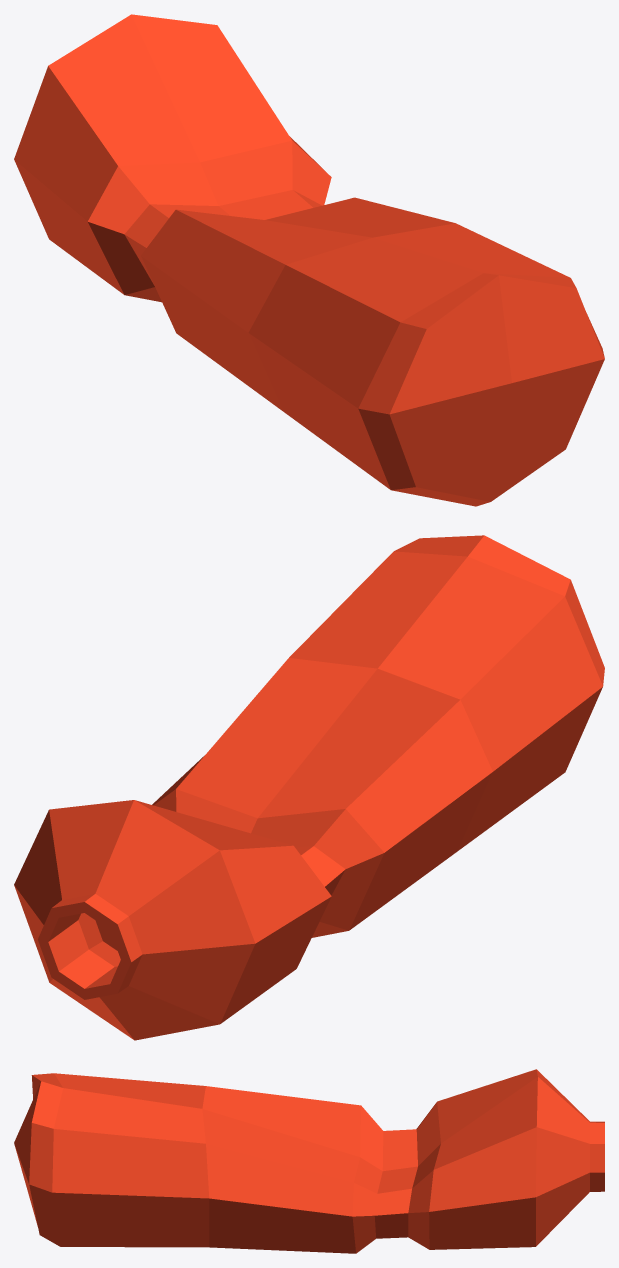
The model's file is SM_Bottle_Broken_City.fbx.
3 renders of one model, top to bottom at view 1: azimuth 30°, elevation 25°; view 2: azimuth 150°, elevation 25°; view 3: azimuth 270°, elevation 25°, orthographic. The views are drawn at different scales.
Visible parts, largest first — view 1: SM_Bottle_Broken_City; view 2: SM_Bottle_Broken_City; view 3: SM_Bottle_Broken_City.
Part boxes in pixels (bbox=[...]): SM_Bottle_Broken_City: bbox=[14, 14, 604, 506]; SM_Bottle_Broken_City: bbox=[14, 535, 604, 1040]; SM_Bottle_Broken_City: bbox=[14, 1069, 604, 1253].
Size of the model in its own units: 0.1092 by 0.1031 by 0.3296.
